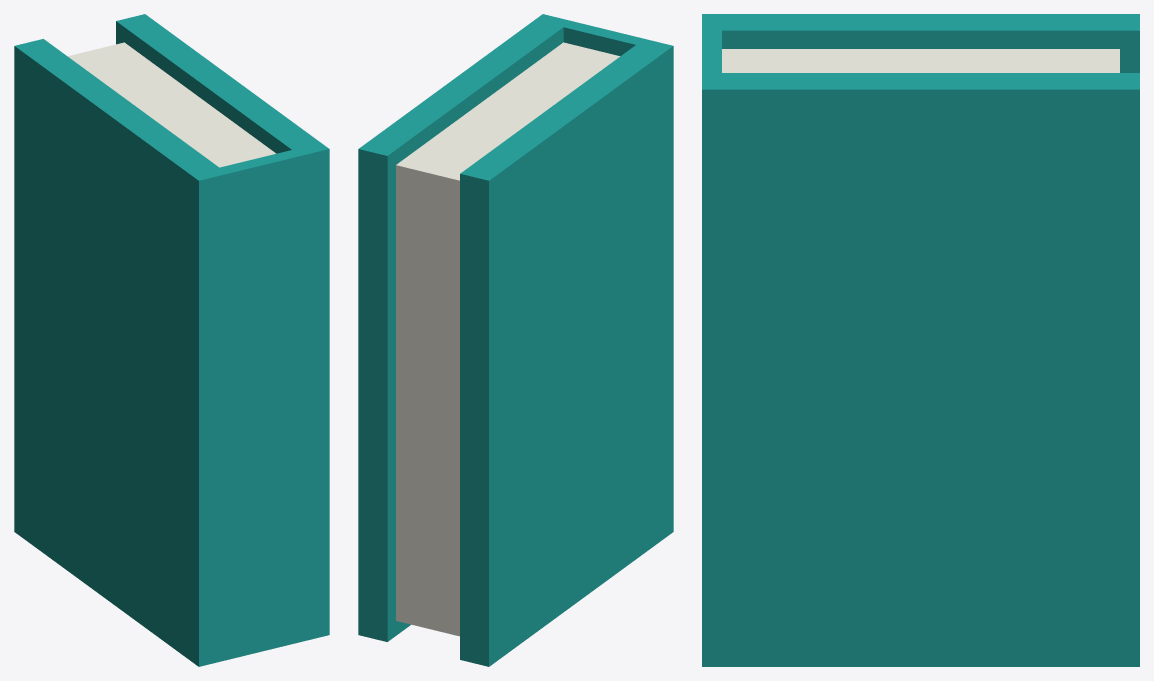
File: Book_Normal.fbx
3 views of the same model, side by side, from view 1: azimuth 30°, elevation 25°; view 2: azimuth 150°, elevation 25°; view 3: azimuth 270°, elevation 25° (orthographic). The views are drawn at different scales.
Visible parts, largest first — view 1: pCube2; view 2: pCube2; view 3: pCube2.
Part boxes in pixels (x1,y1,x2,y2): pCube2: (14,14,329,666); pCube2: (358,14,673,666); pCube2: (702,14,1139,666).
Size of the model in its own units: 9 by 32 by 22.
